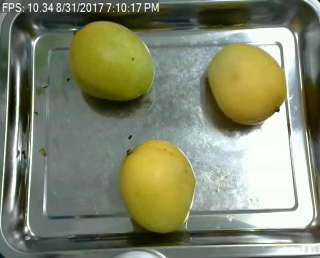Mango: (113, 135, 203, 234), (62, 18, 161, 107), (205, 38, 291, 130)
